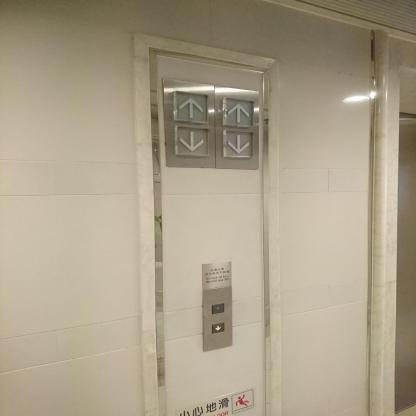down: (174, 125, 210, 156), (222, 130, 254, 158), (211, 322, 225, 334)
up: (172, 89, 210, 124), (221, 95, 255, 128), (211, 302, 225, 315)
